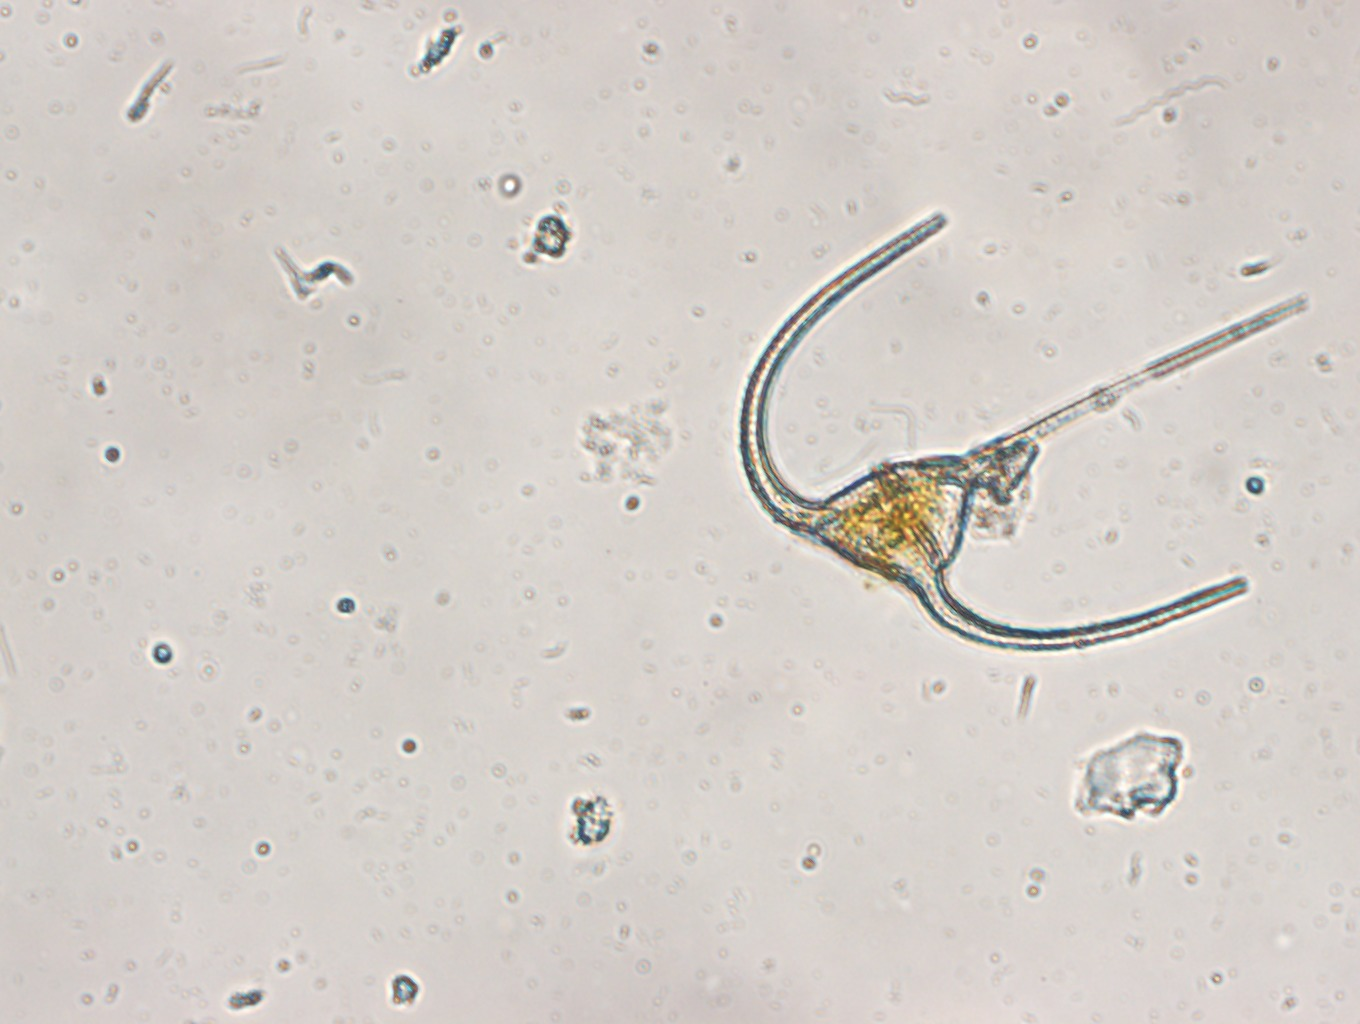ceratium trichoceros: (722, 199, 1309, 657)
